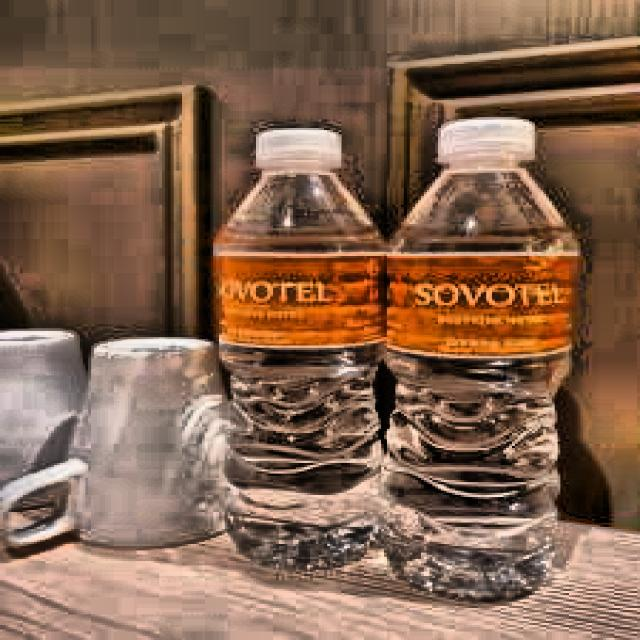Bottles: (379, 110, 616, 619), (188, 110, 408, 583)
